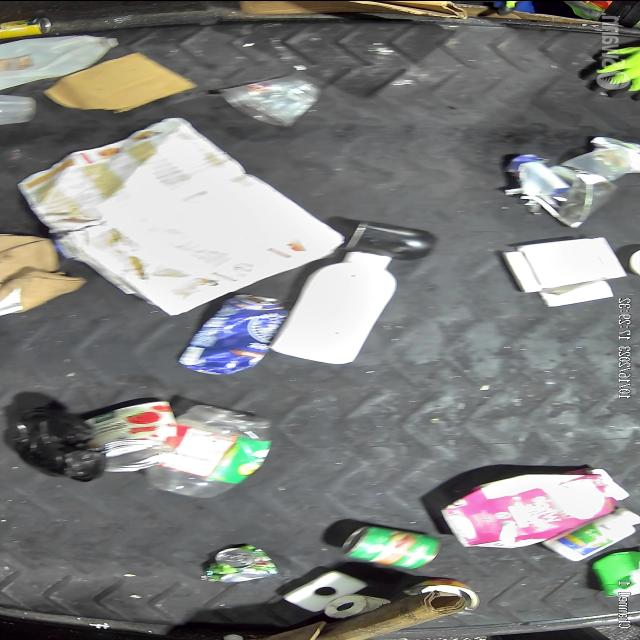can: (172, 283, 290, 379), (77, 401, 176, 470), (338, 526, 448, 576), (184, 539, 287, 586)
milk_jug: (1, 31, 122, 89)
non_white_jug: (436, 468, 630, 545)
